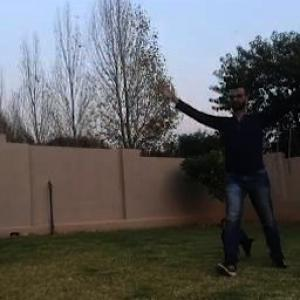takeoff: (171, 86, 299, 276)
